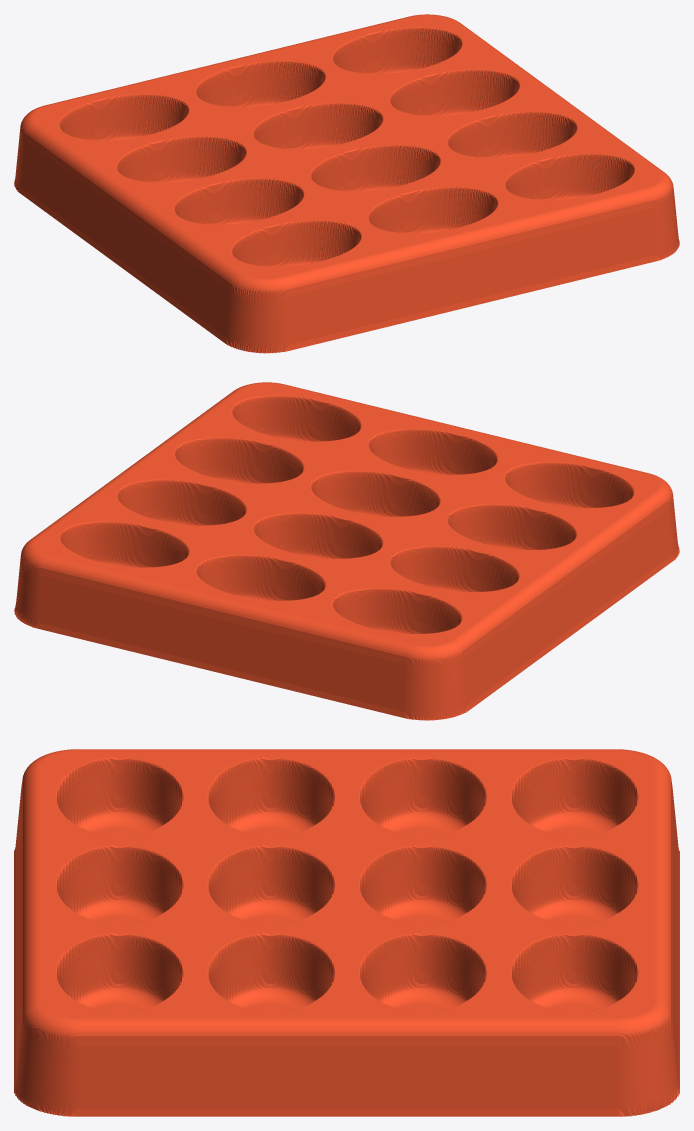
File: mold.glb
The picture shows the model from 3 angles, top to bottom: view 1: azimuth 30°, elevation 25°; view 2: azimuth 150°, elevation 25°; view 3: azimuth 270°, elevation 25°; orthographic projection. The views are drawn at different scales.
Visible parts, largest first — view 1: geometry_0; view 2: geometry_0; view 3: geometry_0.
Part boxes in pixels (box(x1,y1,x2,y2)): geometry_0: box(14, 14, 679, 353); geometry_0: box(14, 382, 679, 720); geometry_0: box(14, 749, 679, 1116).
Size of the model in its own units: 0.0963 by 0.0136 by 0.0938.
